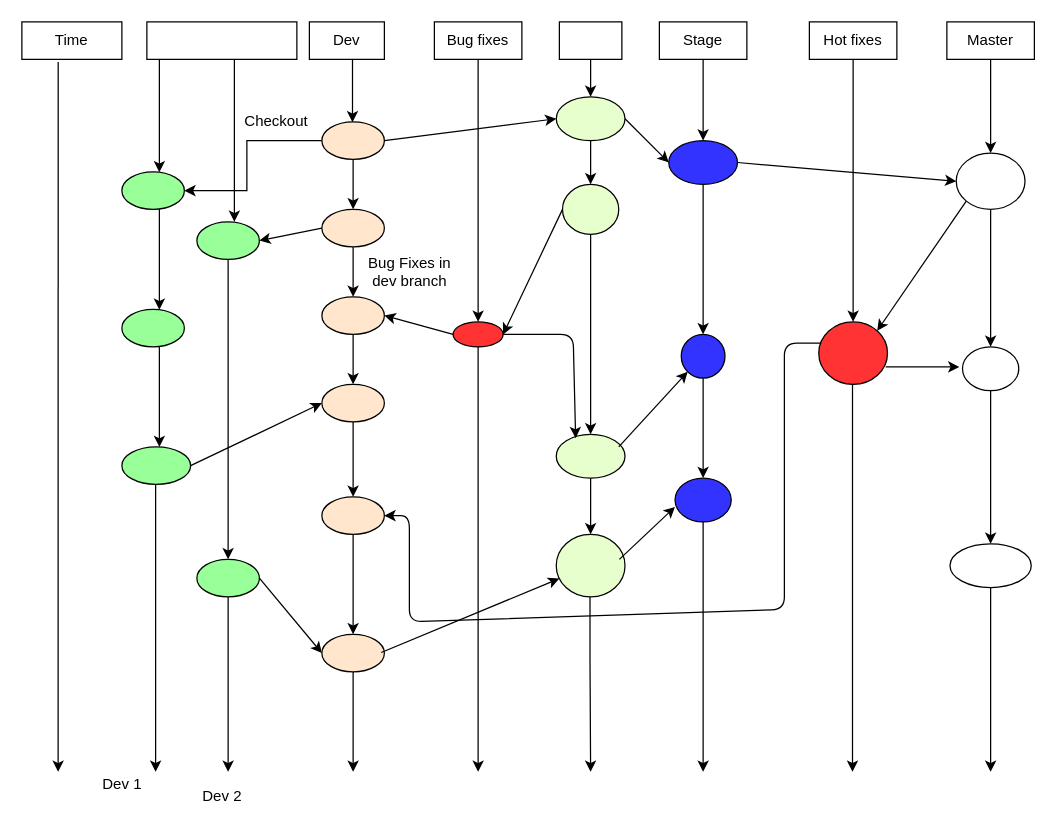
Some shapes in this 1056 by 831 pixel diagram are drawn without their labels. Here are the shapes that lost their labels. From the top down, the centre of each, then its label:
At pixel 221 40: "Feature Branches".
At pixel 590 40: "QA".
